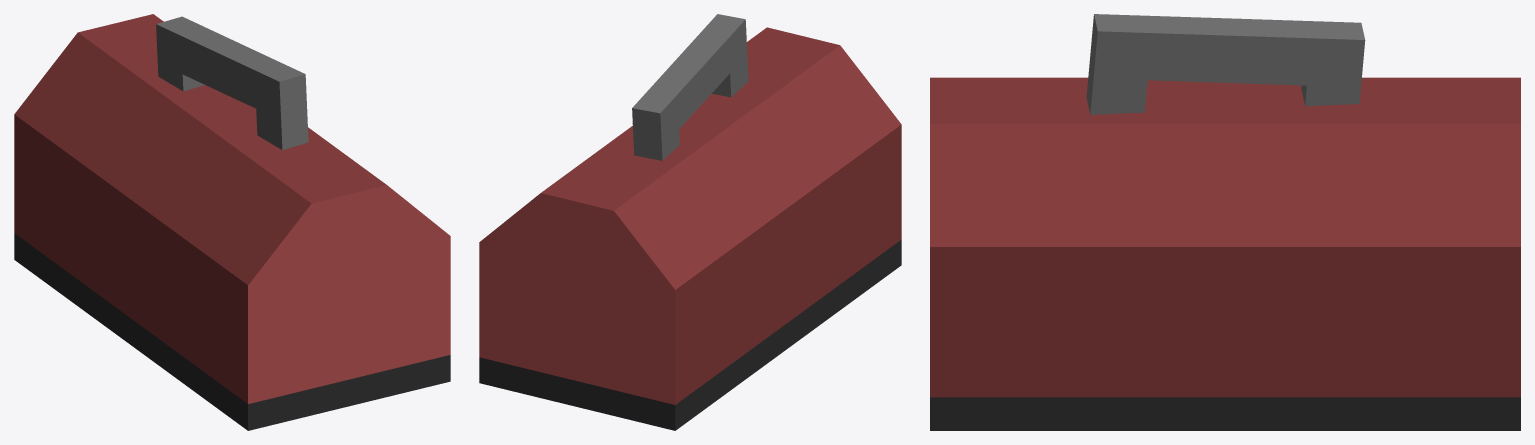
File: Toolbox.fbx
The picture shows the model from 3 angles, left to right: view 1: azimuth 30°, elevation 25°; view 2: azimuth 150°, elevation 25°; view 3: azimuth 270°, elevation 25°; orthographic projection. The views are drawn at different scales.
Parts seen in each view (by area): view 1: ToolBox; view 2: ToolBox; view 3: ToolBox.
Part boxes in pixels (x1,y1,x2,y2): ToolBox: (14, 14, 450, 430); ToolBox: (479, 14, 901, 430); ToolBox: (930, 14, 1520, 430).
Bounding box in the file's own units: 50 × 65.65 × 100.
